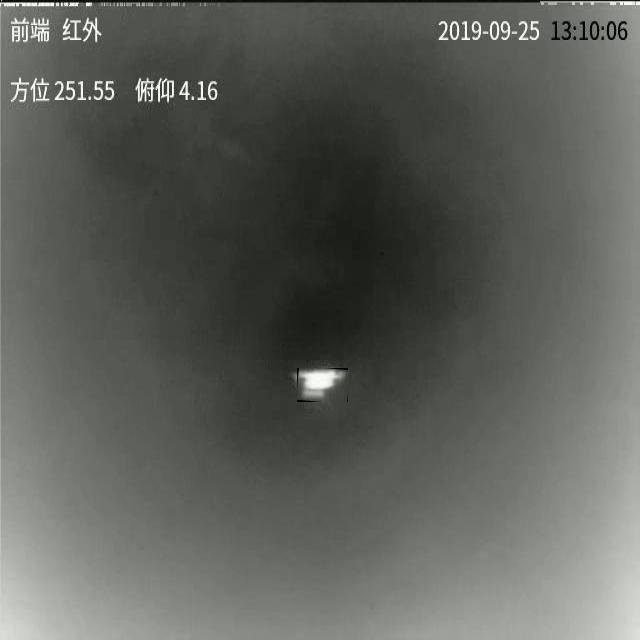drone: (297, 368, 348, 402)
